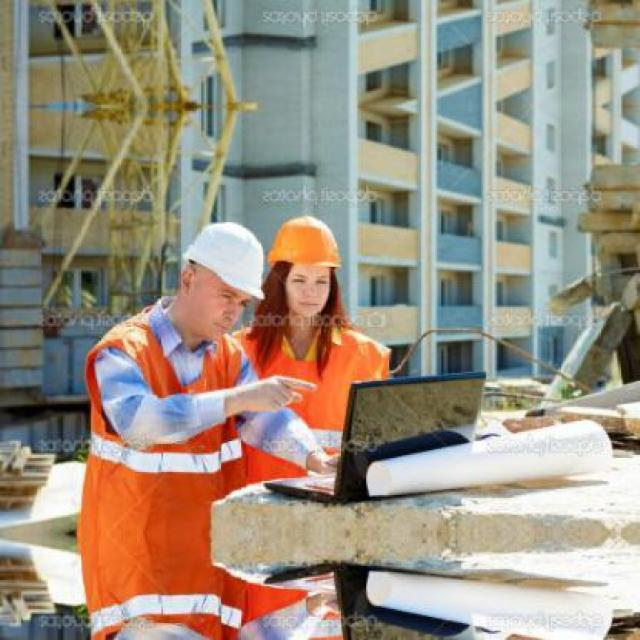Reflective-Jacket: (71, 304, 254, 515), (240, 319, 395, 495)
Safety-Helmet: (171, 214, 271, 308), (265, 208, 352, 287)
